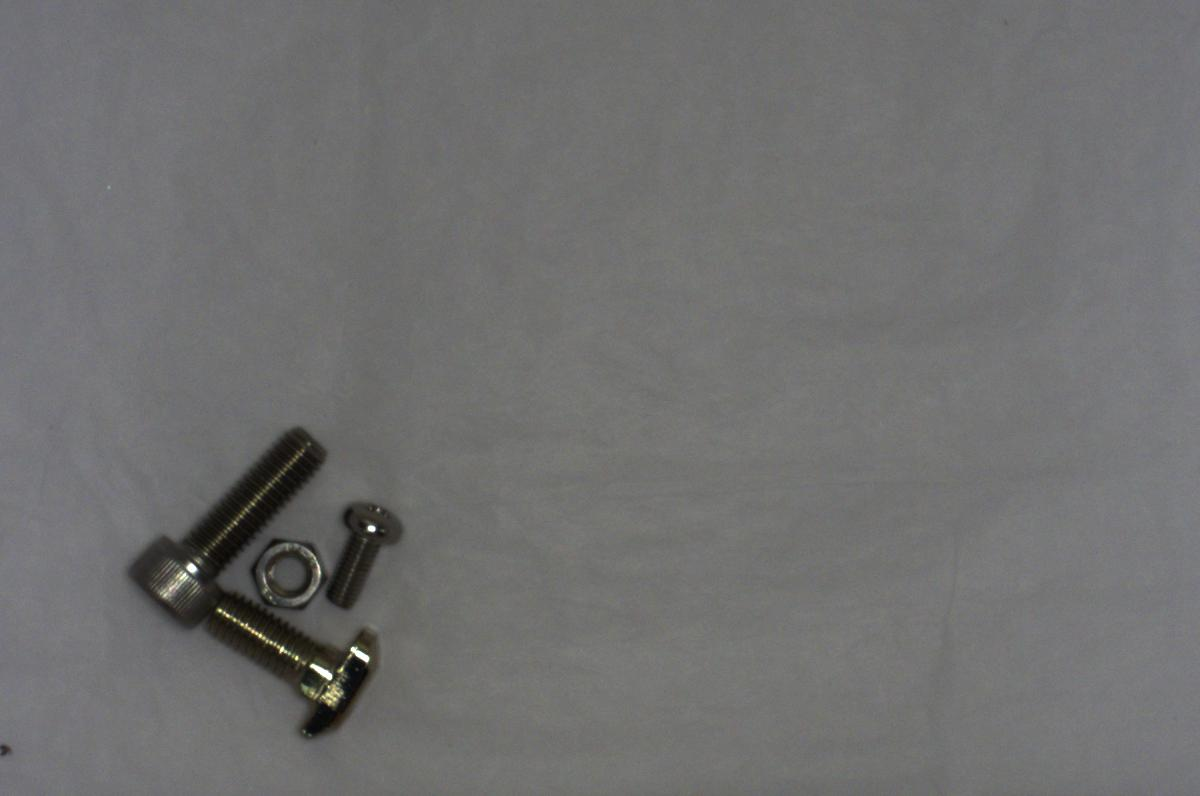Hexagon nut: (241, 536, 331, 613)
Hexagon screw: (128, 420, 332, 620)
Round head screw: (318, 492, 400, 612)
T-shaped screw: (199, 593, 392, 743)
